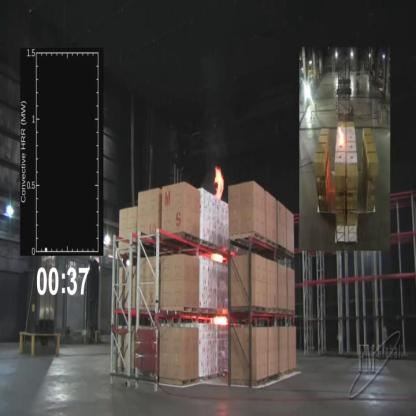fire: (211, 162, 225, 204)
